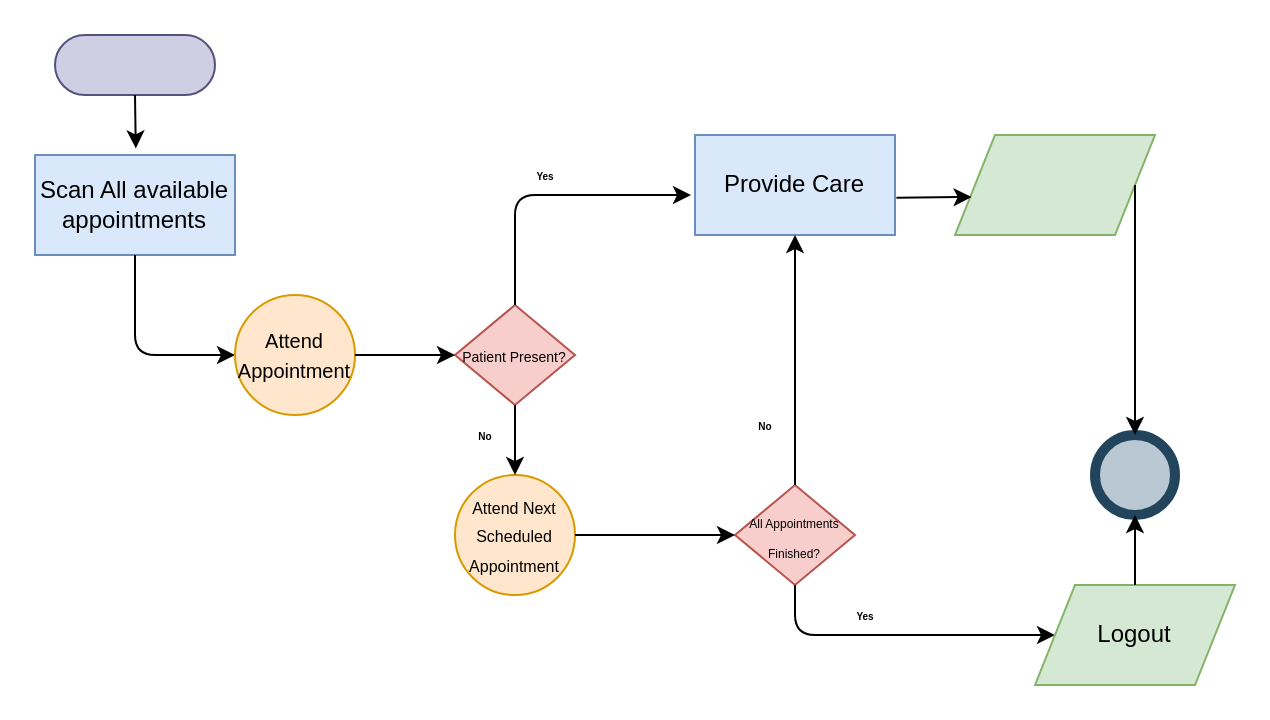
Some shapes in this 1270 by 720 pixel diagram are drawn without their labels. The centre of each missing label's shape, as x and y in pixels:
"Doctor Login" goes at point 134,64.
"End" goes at point 1134,474.
"Recommend Future Updates" goes at point 1054,184.
